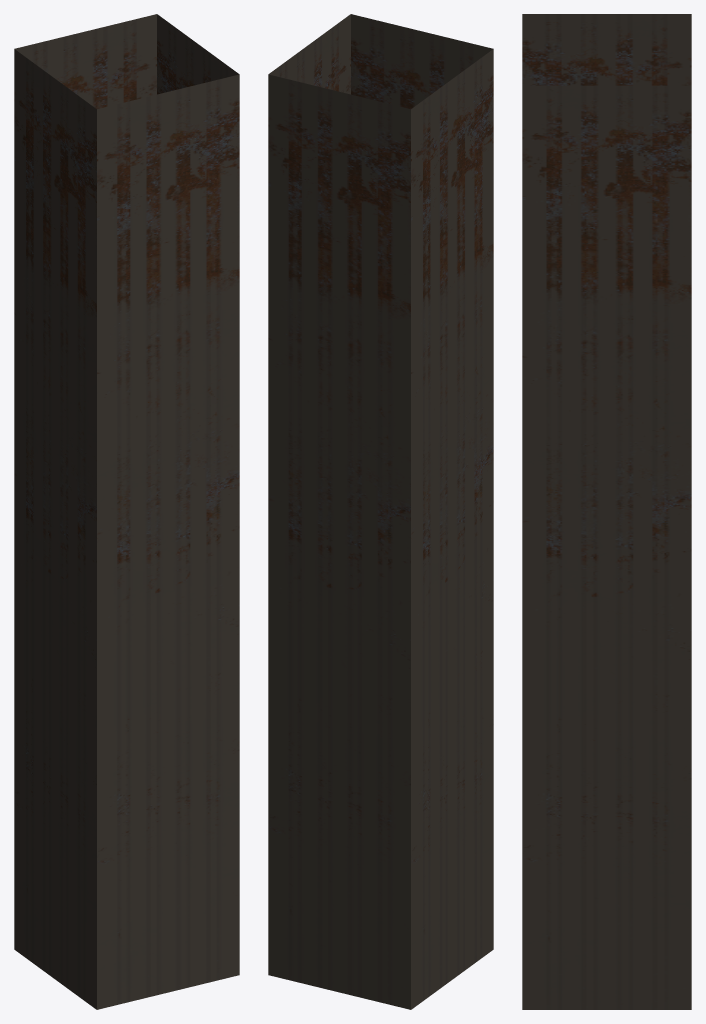
File: Metal_Column_Center.gltf
3 views of the same model, side by side, from view 1: azimuth 30°, elevation 25°; view 2: azimuth 150°, elevation 25°; view 3: azimuth 270°, elevation 25° (orthographic). The views are drawn at different scales.
Parts seen in each view (by area): view 1: Metal_Column_Center; view 2: Metal_Column_Center; view 3: Metal_Column_Center.
Part boxes in pixels (<box>): Metal_Column_Center: <box>14,14,239,1009</box>; Metal_Column_Center: <box>268,14,493,1009</box>; Metal_Column_Center: <box>522,14,691,1009</box>.
Size of the model in its own units: 0.4978 by 3 by 0.4982.
Materials: 1 (1 with a texture image).
